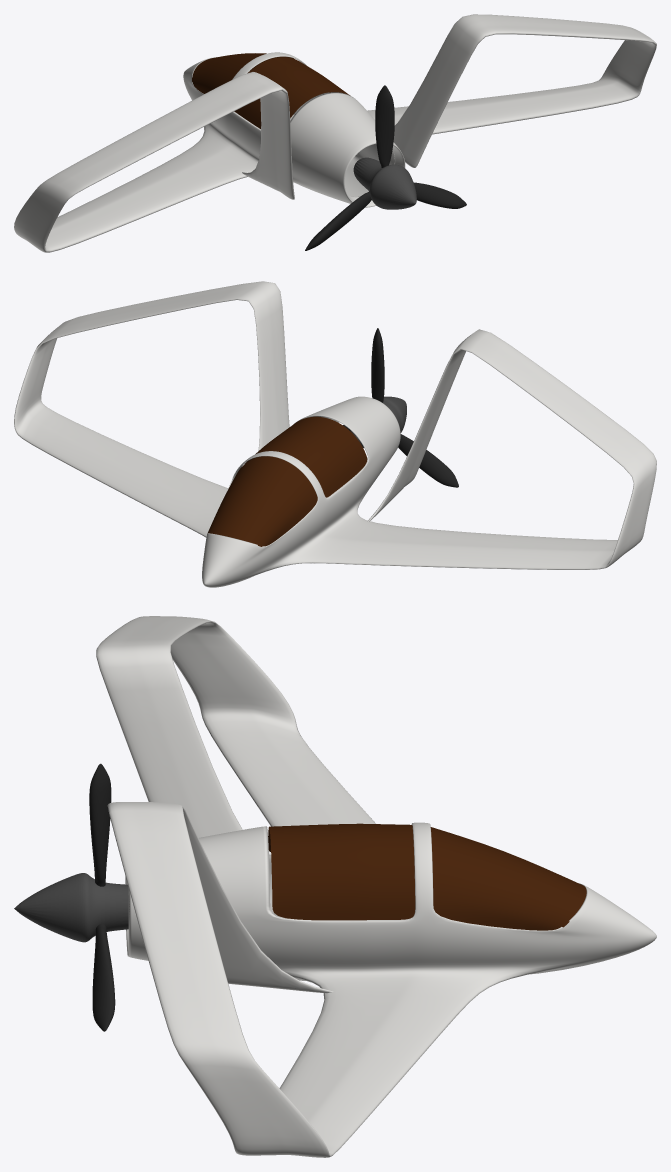
File: synergy_full.glb
3 views of the same model, one above another, from view 1: azimuth 30°, elevation 25°; view 2: azimuth 150°, elevation 25°; view 3: azimuth 270°, elevation 25° (orthographic). The views are drawn at different scales.
Parts seen in each view (by area): view 1: Cylinder.006, Cylinder.010, Cone.001, Cylinder.011, Cylinder.009, Cylinder.008, Cylinder.007; view 2: Cylinder.006, Cylinder.011, Cylinder.010, Cylinder.008, Cylinder.009, Cone.001; view 3: Cylinder.006, Cylinder.010, Cylinder.011, Cone.001, Cylinder.009, Cylinder.007.
Part boxes in pixels (x1,y1,x2,y2): Cylinder.006: (14,14,656,252); Cylinder.010: (234,57,350,128); Cone.001: (353,157,416,209); Cylinder.011: (192,53,293,93); Cylinder.009: (375,85,394,167); Cylinder.008: (305,191,371,250); Cylinder.007: (413,182,466,208); Cylinder.006: (14,281,656,587); Cylinder.011: (207,456,317,546); Cylinder.010: (245,416,367,497); Cylinder.008: (398,434,458,487); Cylinder.009: (371,328,384,402); Cone.001: (350,396,406,447); Cylinder.006: (96,616,656,1157); Cylinder.010: (268,823,415,920); Cylinder.011: (430,827,586,930); Cone.001: (14,873,128,942); Cylinder.009: (89,763,111,886); Cylinder.007: (92,924,115,1031).
Bounding box in the file's own units: 4.27 × 1.13 × 2.64.
